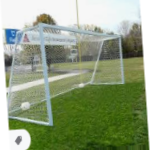goals: (6, 22, 125, 125)
